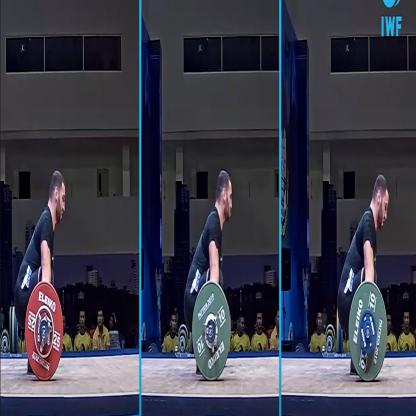Barbell: (190, 270, 237, 388), (21, 270, 66, 384), (347, 277, 392, 385)
